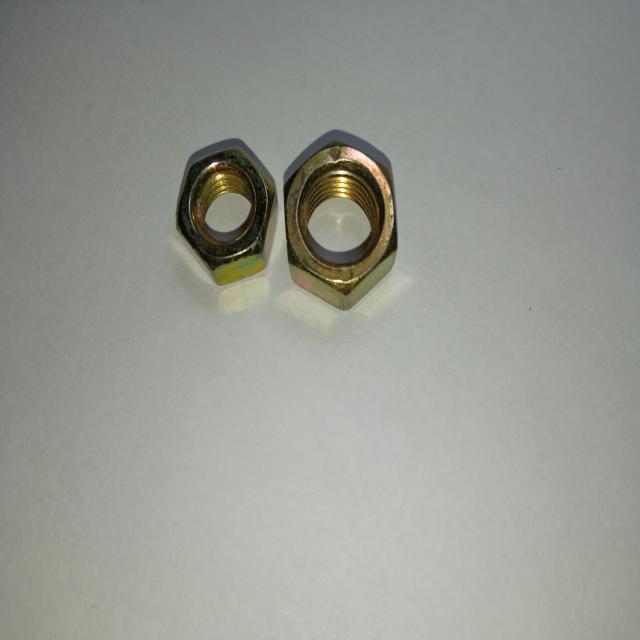m10: (284, 148, 402, 300)
m8: (179, 147, 267, 275)
